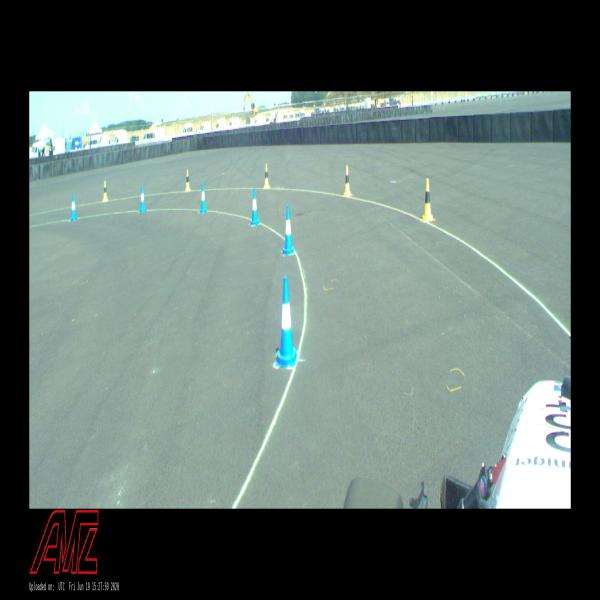blue_cone: (275, 276, 298, 366), (282, 205, 294, 256), (250, 188, 259, 225), (199, 182, 207, 212), (139, 186, 146, 212), (70, 194, 77, 220)
yellow_cone: (422, 178, 434, 221), (343, 165, 352, 197), (102, 180, 109, 202), (264, 164, 270, 188), (185, 170, 191, 191)
